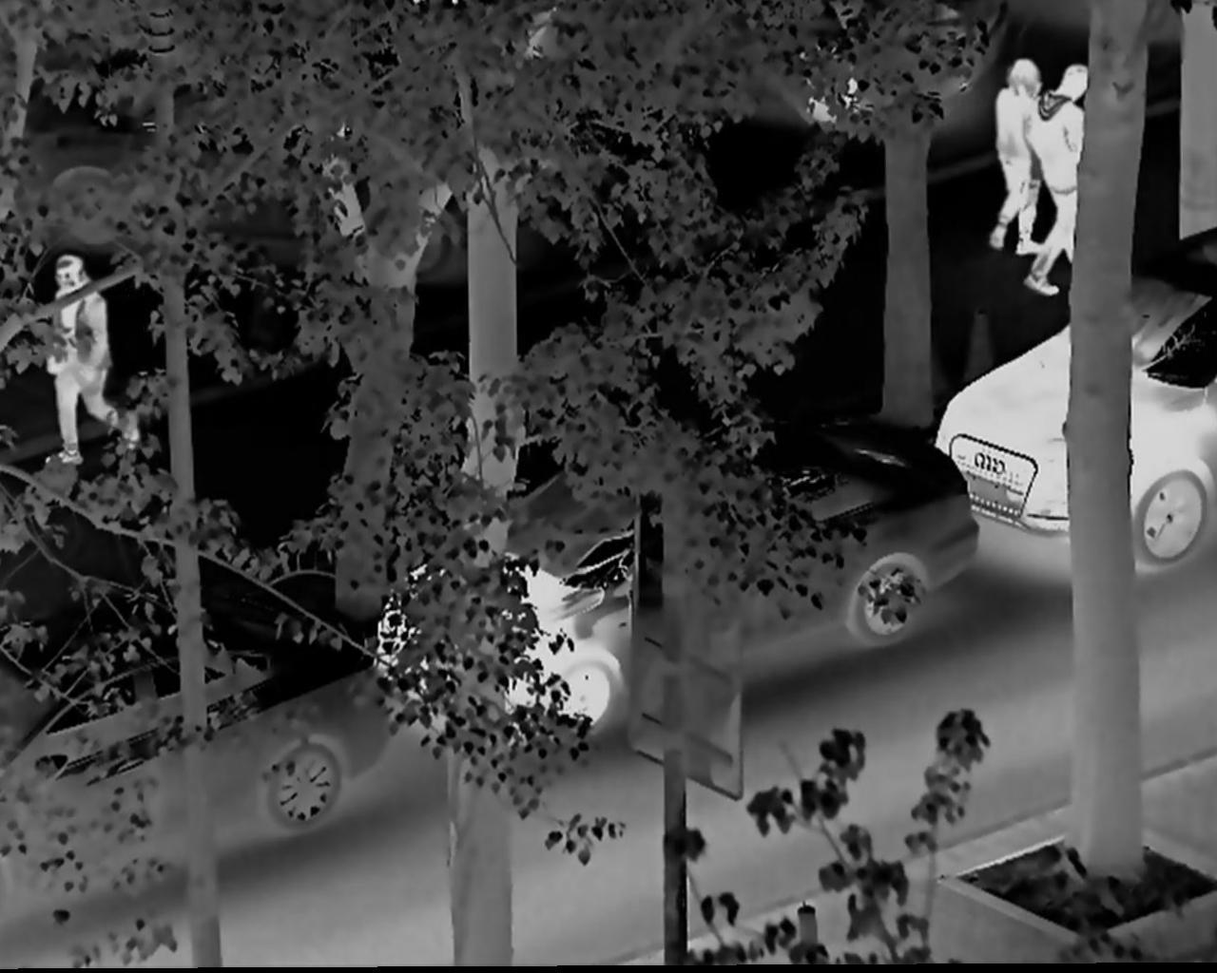person: (41, 250, 141, 466), (1023, 64, 1114, 296), (988, 56, 1047, 266)
